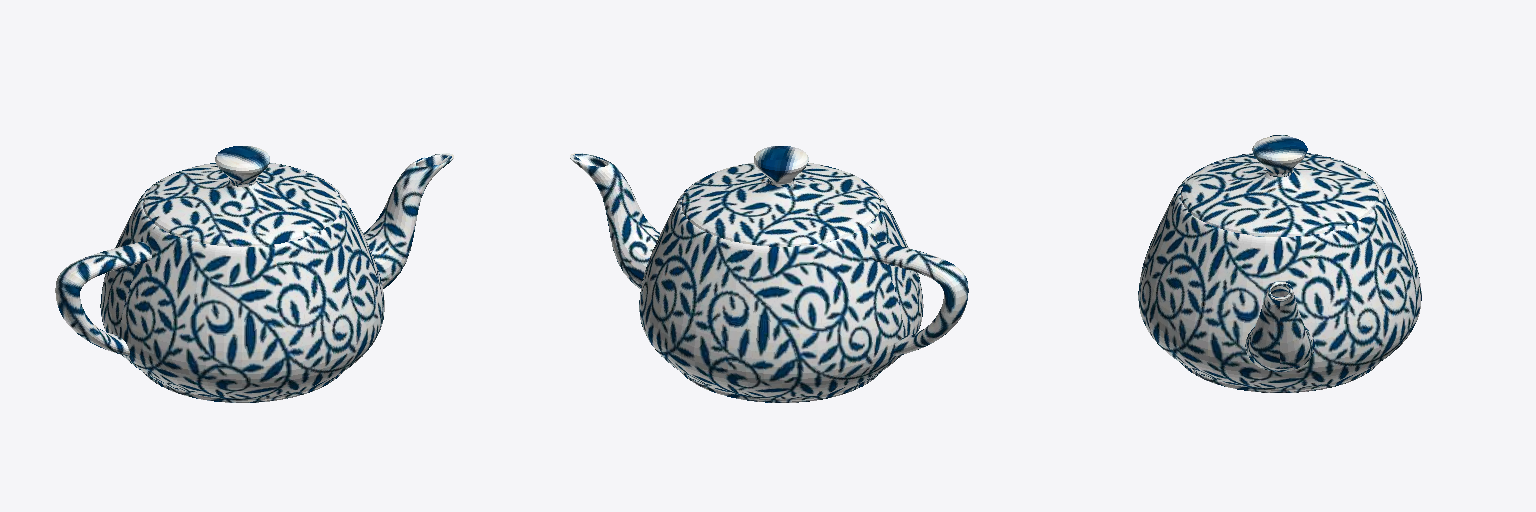
The picture shows the model from 3 angles: view 1: azimuth 30°, elevation 25°; view 2: azimuth 150°, elevation 25°; view 3: azimuth 270°, elevation 25°; orthographic projection.
Bounding box in the file's own units: 154 × 79.01 × 95.86.
1 materials, 1 textured.